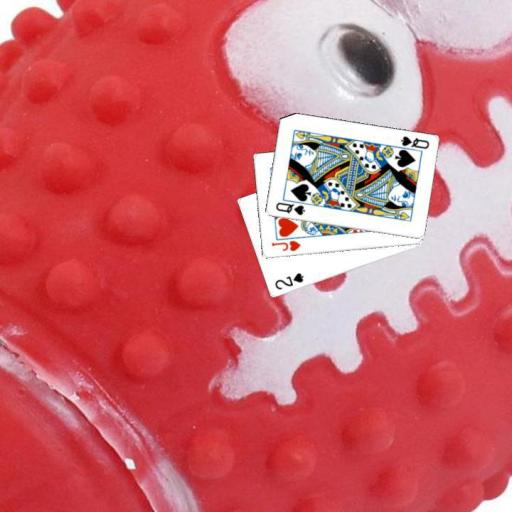2S: (272, 270, 305, 292)
JH: (268, 238, 302, 253)
QS: (273, 199, 307, 217), (398, 133, 430, 151)
